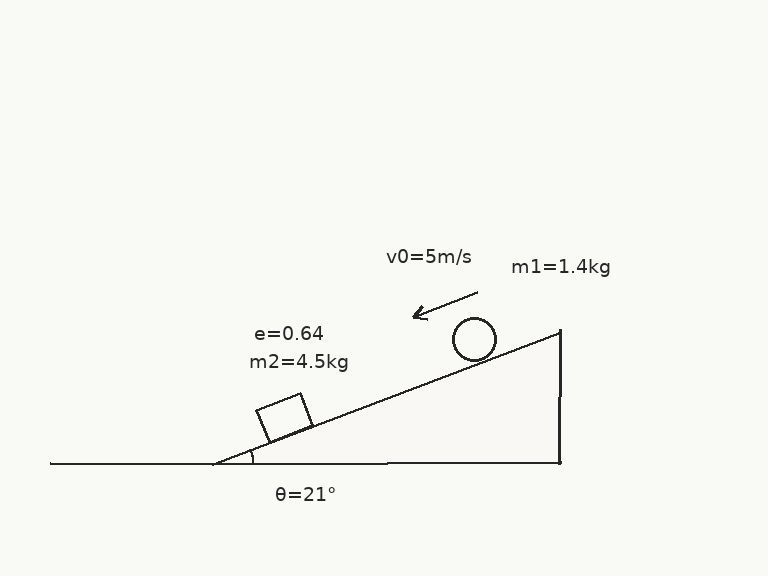ball: (450, 315, 498, 363)
block: (254, 391, 314, 444)
ramp: (211, 328, 562, 465)
